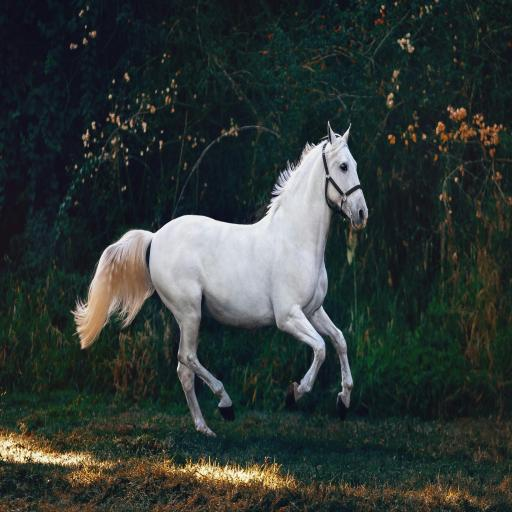horse: (72, 114, 374, 441)
